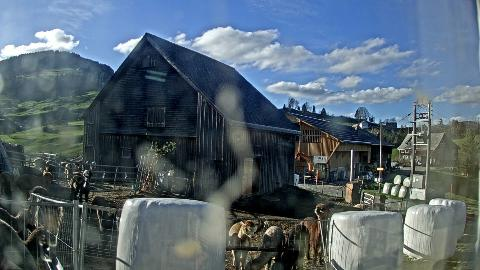car: (360, 172, 374, 181), (390, 166, 400, 172), (418, 160, 426, 166)
sheep: (0, 218, 38, 270), (90, 196, 122, 256), (300, 204, 332, 262), (244, 226, 286, 270), (271, 224, 310, 270), (228, 220, 257, 270), (21, 226, 53, 260), (0, 205, 36, 233), (69, 170, 93, 206), (21, 170, 53, 196), (29, 186, 51, 212), (354, 195, 388, 211), (0, 168, 20, 194), (66, 164, 82, 186), (44, 161, 60, 177), (32, 158, 48, 170), (66, 162, 76, 178), (339, 206, 363, 212), (328, 208, 340, 218)
